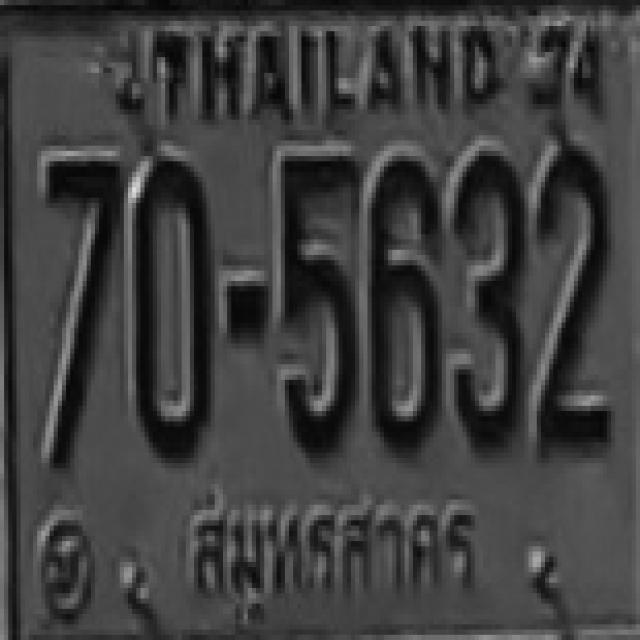0: (134, 156, 213, 458)
2: (535, 148, 609, 404)
3: (450, 148, 524, 450)
6: (368, 154, 438, 450)
7: (47, 156, 122, 375)
SamutSakhon: (179, 494, 491, 628)
